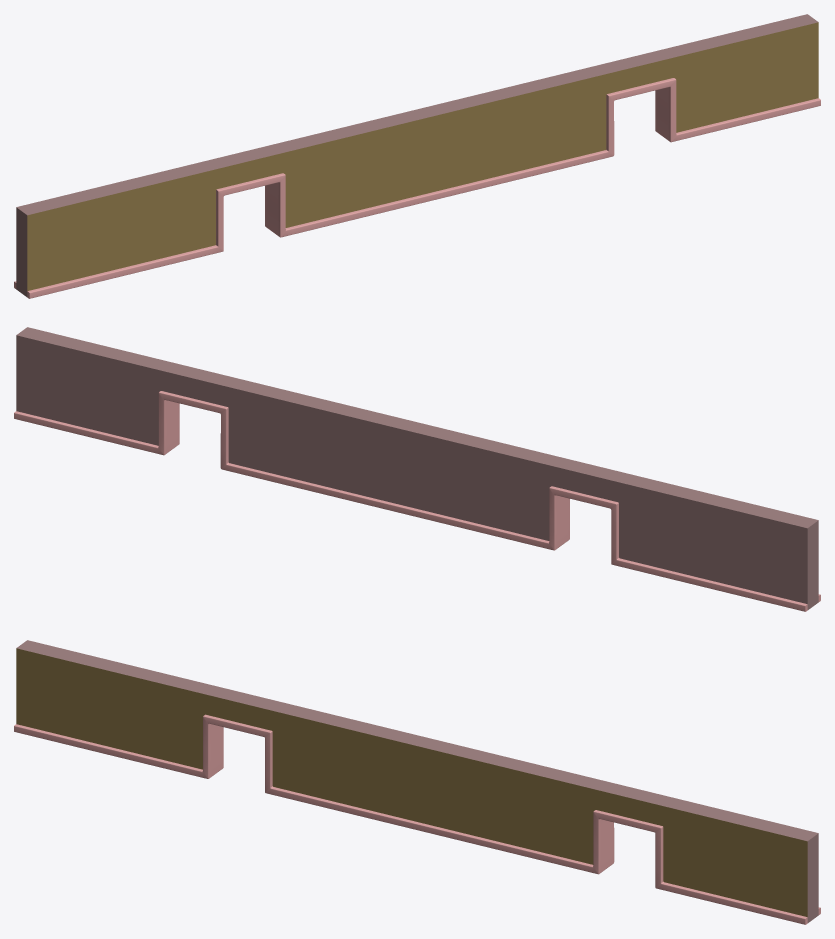
Rendered from GameReadingWall.fbx.
3 renders of one model, top to bottom at view 1: azimuth 30°, elevation 25°; view 2: azimuth 150°, elevation 25°; view 3: azimuth 330°, elevation 25°, orthographic.
Visible parts, largest first — view 1: polySurface6; view 2: polySurface6; view 3: polySurface6.
Boxes of the visible parts, x1,y1,x2,y2 form: polySurface6: (14, 14, 820, 298); polySurface6: (14, 327, 820, 611); polySurface6: (14, 640, 820, 924).
Bounding box in the file's own units: 40.91 × 4.06 × 1.4.
